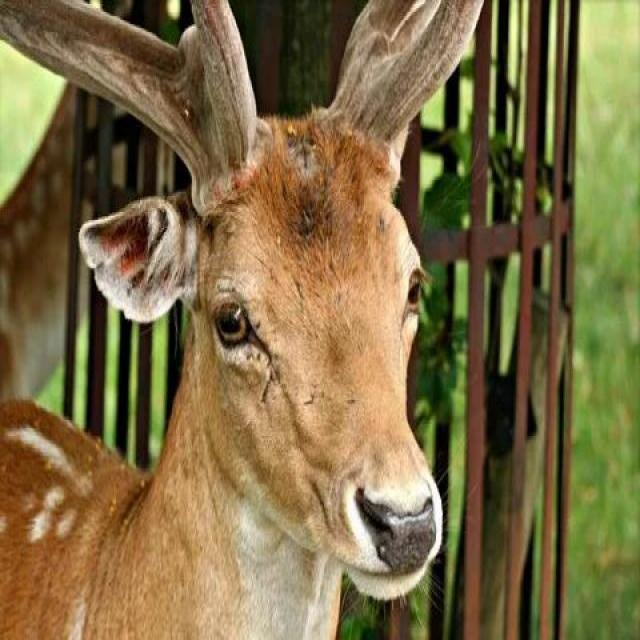deer: (147, 66, 526, 640)
